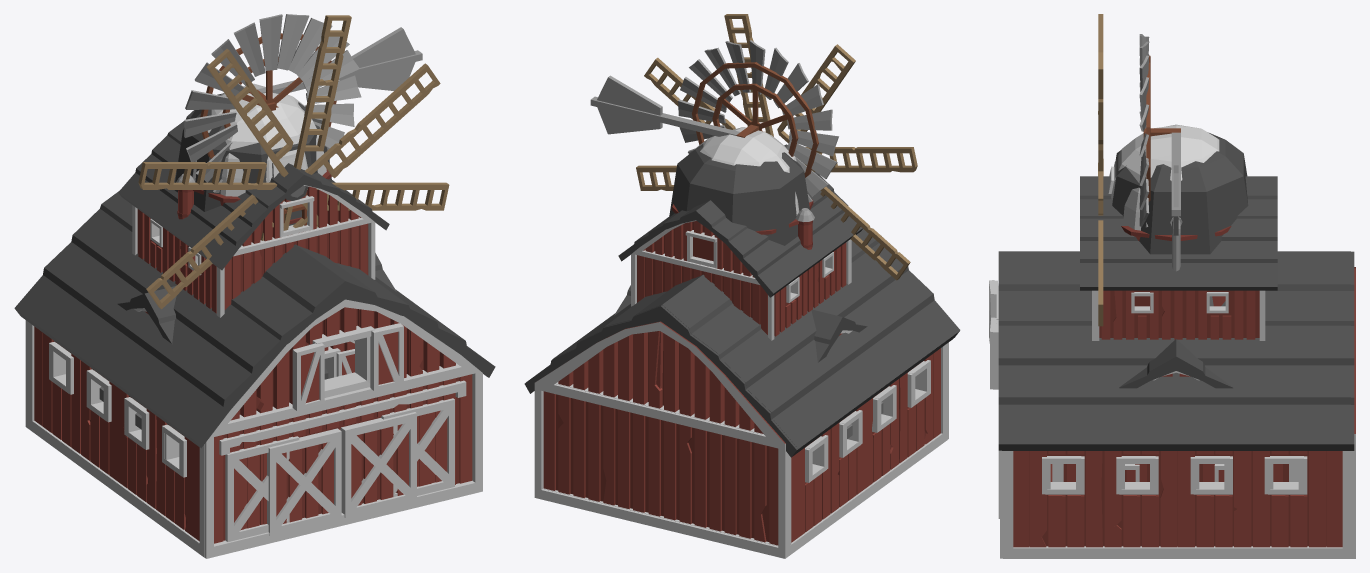
The model's file is farm.glb.
The picture shows the model from 3 angles, left to right: view 1: azimuth 30°, elevation 25°; view 2: azimuth 150°, elevation 25°; view 3: azimuth 270°, elevation 25°; orthographic projection. The views are drawn at different scales.
Visible parts, largest first — view 1: Barn, BigBarn, TowerWindmill_Blades, Windmill_Blades, Barn_Door, Barn_Door2, Silo, BigBarn_Door2, BigBarn_Door, Windmill, TowerWindmill, Barn_Window (+3 smaller); view 2: BigBarn, Barn, Windmill_Blades, TowerWindmill, TowerWindmill_Blades, Windmill, Silo, OpenBarn, Silo_House; view 3: Barn, BigBarn, TowerWindmill, Silo, OpenBarn, Windmill_Blades, TowerWindmill_Blades, Small_Barn, Windmill.
Part boxes in pixels (x1,y1,x2,y2): Barn: (16,193,495,558); BigBarn: (14,110,486,557); TowerWindmill_Blades: (138,15,449,309); Windmill_Blades: (184,14,361,192); Barn_Door: (340,412,416,517); Barn_Door2: (267,428,341,536); Silo: (192,83,331,225); BigBarn_Door2: (225,436,299,541); BigBarn_Door: (381,398,454,496); Windmill: (249,27,422,110); TowerWindmill: (174,93,331,225); Barn_Window: (371,324,403,390); BigBarn: (524,144,958,558); Barn: (526,229,960,545); Windmill_Blades: (678,40,838,202); TowerWindmill: (669,144,809,245); TowerWindmill_Blades: (636,14,917,280); Windmill: (590,75,758,137); Silo: (672,127,813,234); OpenBarn: (614,285,867,362); Silo_House: (795,208,883,438); Barn: (996,251,1352,558); BigBarn: (1002,176,1355,558); TowerWindmill: (1112,132,1248,306); Silo: (1108,124,1231,306); OpenBarn: (1052,339,1298,481); Windmill_Blades: (1139,34,1150,227); TowerWindmill_Blades: (1098,14,1103,326); Small_Barn: (1053,464,1296,481); Windmill: (1143,128,1180,235).
Size of the model in its own units: 2.05 by 3 by 2.07.
